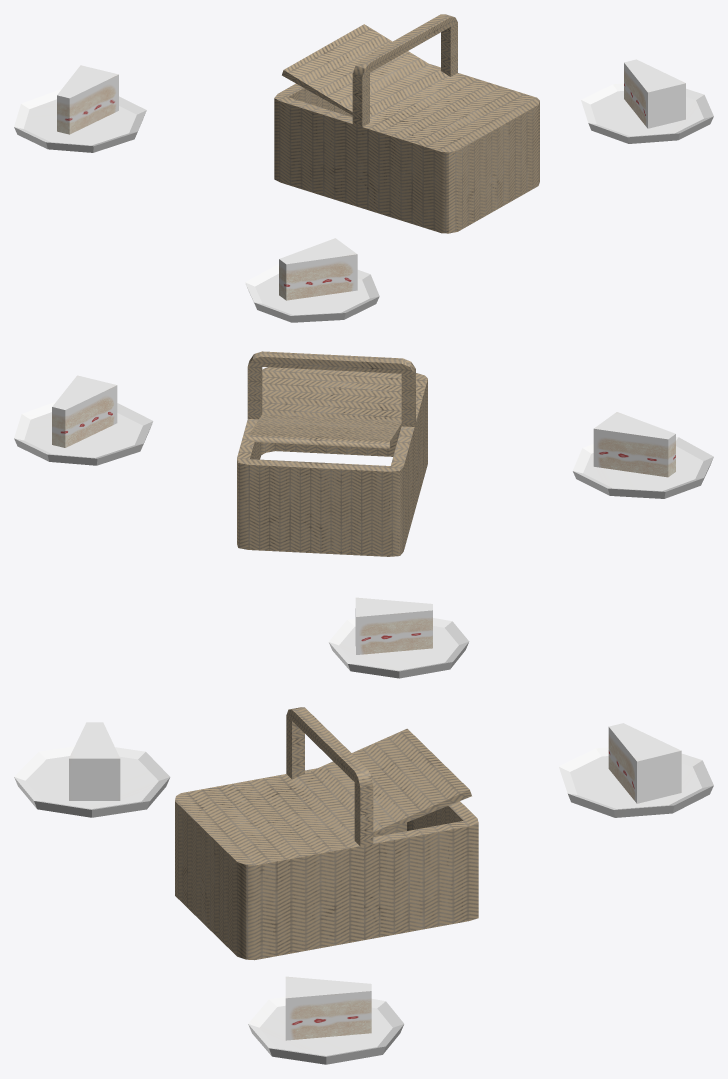
The model's file is picnicFinal.fbx.
3 renders of one model, top to bottom at view 1: azimuth 30°, elevation 25°; view 2: azimuth 150°, elevation 25°; view 3: azimuth 270°, elevation 25°, orthographic. The views are drawn at different scales.
Parts seen in each view (by area): view 1: polySurface8_basket_0, polySurface8_plate_0, polySurface8_cake_0; view 2: polySurface8_basket_0, polySurface8_plate_0, polySurface8_cake_0; view 3: polySurface8_basket_0, polySurface8_plate_0, polySurface8_cake_0.
Part boxes in pixels (x1,y1,x2,y2): polySurface8_basket_0: (274, 14, 539, 233); polySurface8_plate_0: (14, 83, 713, 322); polySurface8_cake_0: (57, 59, 685, 300); polySurface8_basket_0: (237, 351, 427, 556); polySurface8_plate_0: (14, 401, 713, 678); polySurface8_cake_0: (52, 375, 675, 654); polySurface8_basket_0: (175, 707, 478, 960); polySurface8_plate_0: (14, 746, 713, 1064); polySurface8_cake_0: (69, 722, 681, 1040).
Size of what is drawn, in the model's own units: 124 by 30.46 by 118.
3 materials, 3 textured.
